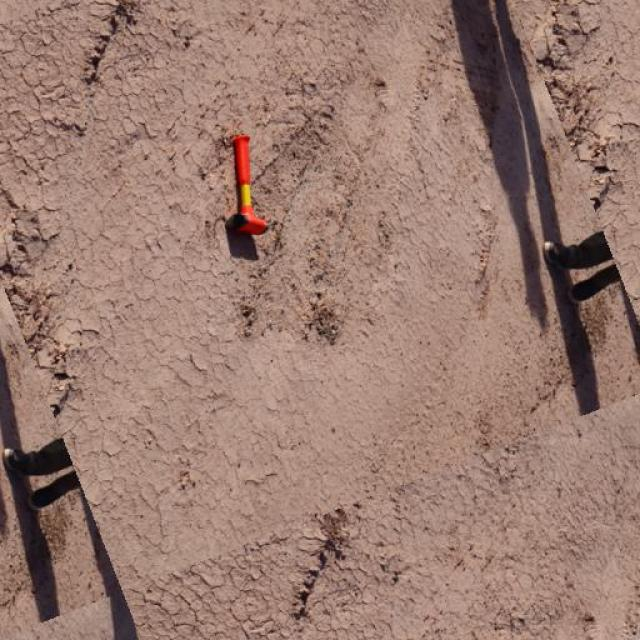mallet: (222, 131, 268, 235)
